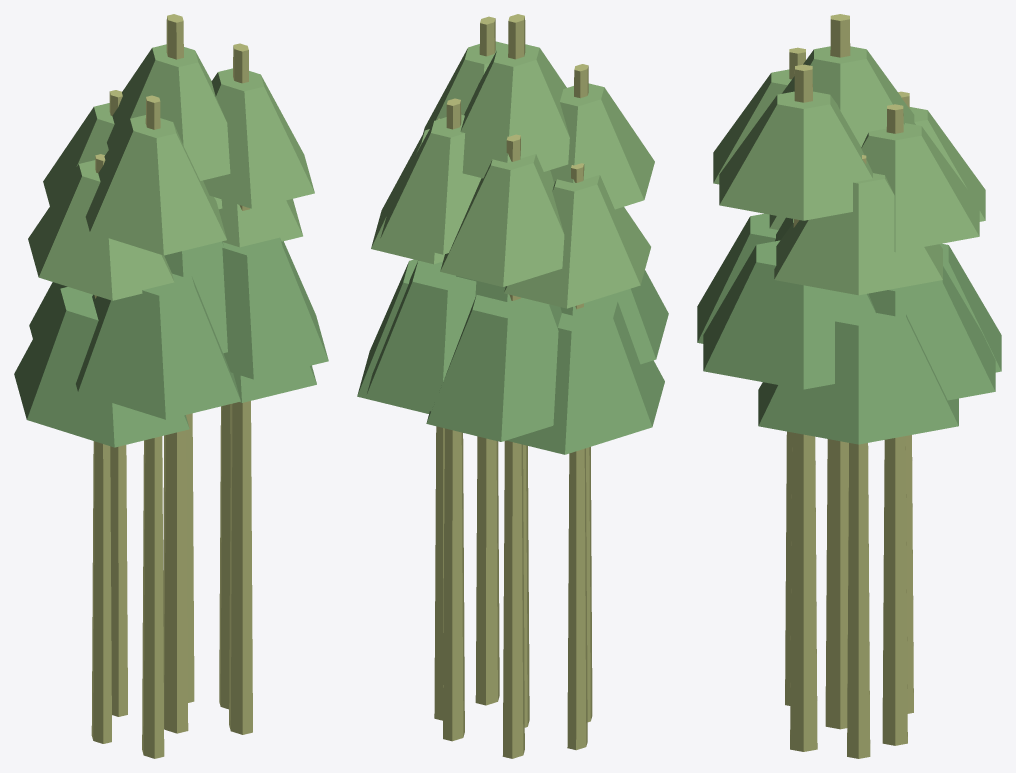
File: flora_49_bambusa_multiplex_khom_tre_truc_vang_lang_cu_lan_thi_tran_dran.glb
3 renders of one model, left to right at view 1: azimuth 30°, elevation 25°; view 2: azimuth 150°, elevation 25°; view 3: azimuth 270°, elevation 25°, orthographic.
Parts seen in each view (by area): view 1: flora_49; view 2: flora_49; view 3: flora_49.
Boxes of the visible parts, x1,y1,x2,y2 form: flora_49: [14, 14, 328, 758]; flora_49: [357, 14, 668, 758]; flora_49: [697, 14, 1001, 758].
Bounding box in the file's own units: 3.4 × 8.2 × 3.2.
